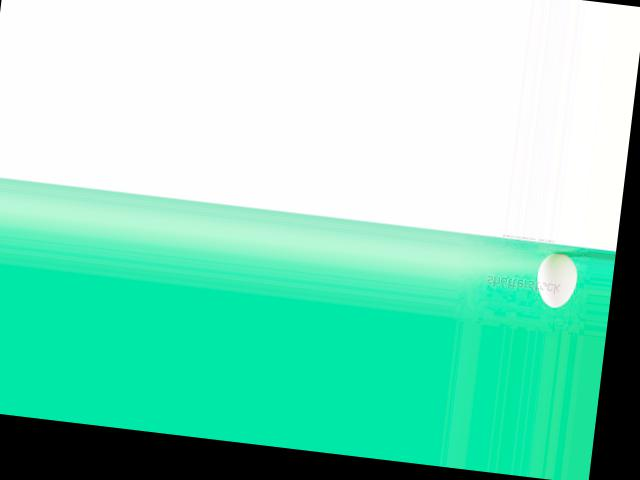egg: (534, 249, 580, 309)
